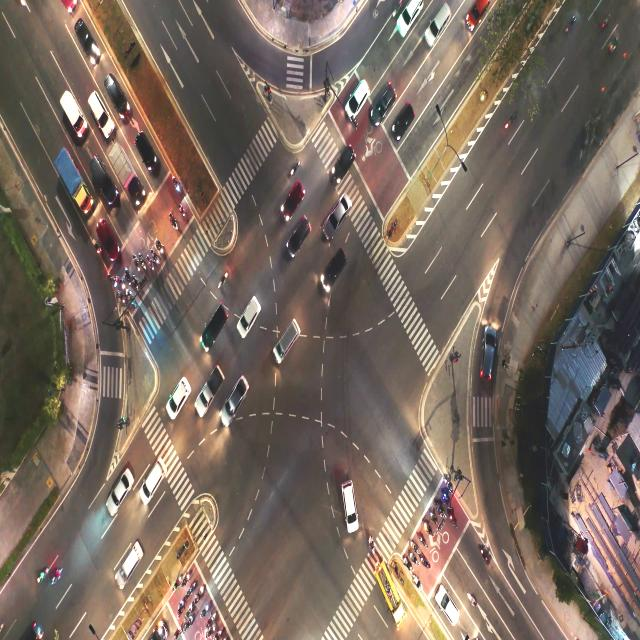bus: (384, 584, 395, 598)
car: (480, 324, 498, 373), (279, 232, 310, 256), (342, 484, 355, 540), (276, 325, 298, 357), (394, 101, 416, 132), (465, 0, 487, 29), (439, 593, 458, 624), (206, 306, 220, 346), (242, 296, 256, 334), (230, 378, 247, 408), (335, 148, 353, 176), (324, 257, 340, 288), (431, 6, 446, 39), (401, 4, 417, 33), (351, 79, 365, 112), (374, 90, 391, 116), (328, 197, 345, 221), (286, 181, 299, 212), (123, 552, 140, 572), (173, 380, 183, 408), (142, 140, 154, 161), (95, 164, 105, 187), (146, 470, 158, 488), (116, 479, 126, 500), (111, 85, 121, 104), (95, 100, 104, 117), (80, 28, 90, 42)
motorcycle: (218, 270, 227, 288), (480, 548, 492, 561), (178, 621, 188, 634), (54, 566, 62, 582), (38, 567, 46, 583), (291, 157, 298, 175), (424, 521, 432, 535), (173, 574, 181, 588), (185, 602, 192, 618), (93, 241, 99, 258), (423, 556, 430, 570), (156, 238, 163, 252), (414, 574, 421, 587), (195, 588, 202, 601), (184, 586, 193, 596), (446, 479, 453, 491), (368, 536, 374, 550), (173, 178, 179, 192), (418, 538, 426, 548), (178, 601, 183, 616), (202, 604, 208, 616), (170, 216, 176, 226), (114, 276, 120, 286), (413, 542, 420, 550), (180, 205, 185, 216), (152, 249, 157, 260), (125, 271, 130, 282), (219, 626, 224, 637), (182, 576, 188, 585), (208, 616, 214, 625), (452, 513, 456, 526), (134, 256, 138, 269), (134, 275, 138, 288), (469, 594, 474, 604), (210, 626, 214, 638), (120, 293, 124, 304), (438, 504, 442, 514), (445, 493, 448, 504), (432, 514, 436, 522), (148, 259, 152, 267), (414, 555, 417, 563), (142, 255, 144, 267), (406, 561, 409, 568), (129, 290, 131, 300)
truck: (200, 376, 217, 414), (66, 161, 77, 189), (67, 98, 75, 122), (118, 157, 126, 179)
